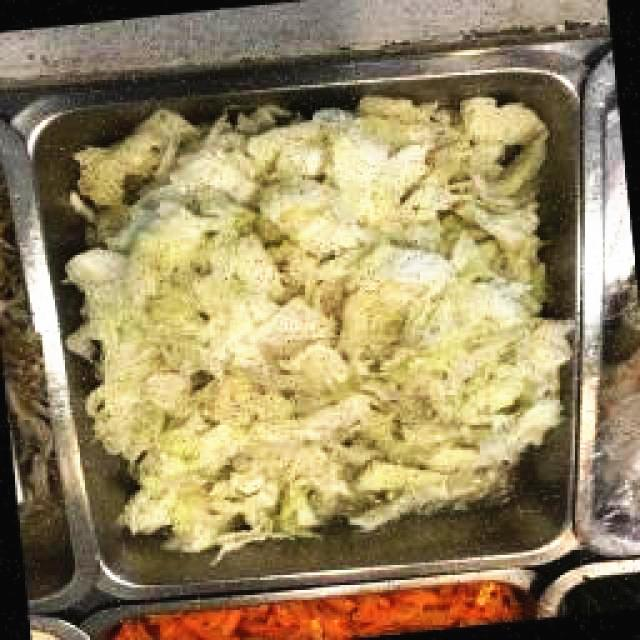chinese_cabbage: (63, 92, 572, 560)
